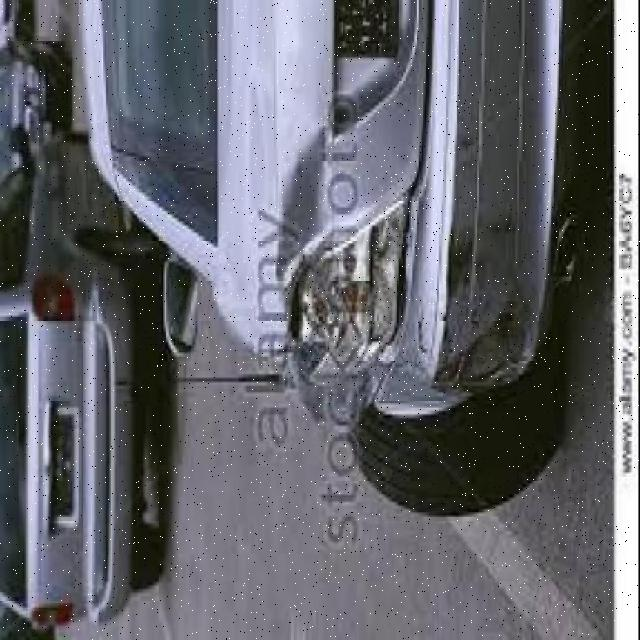damage: (243, 62, 535, 440)
